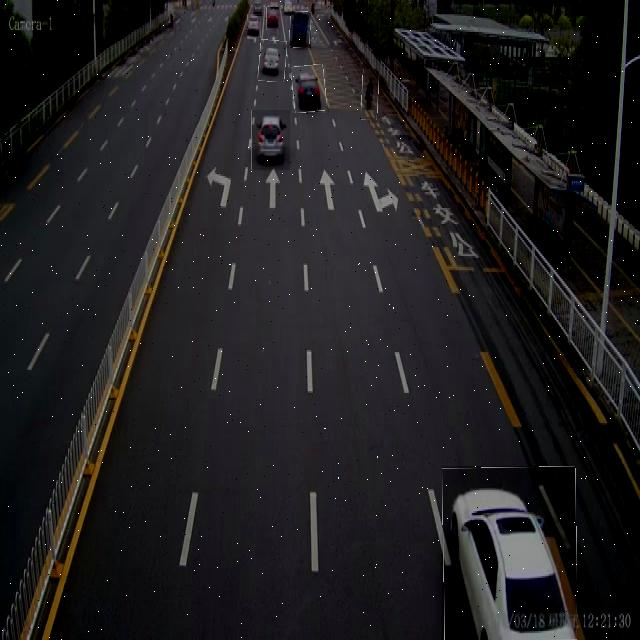Car: (442, 466, 576, 640), (251, 110, 290, 170), (292, 65, 326, 113), (259, 40, 286, 81), (247, 14, 261, 38), (266, 8, 279, 32)
Motorcycle: (361, 70, 379, 122)
Truck: (290, 12, 311, 48)
